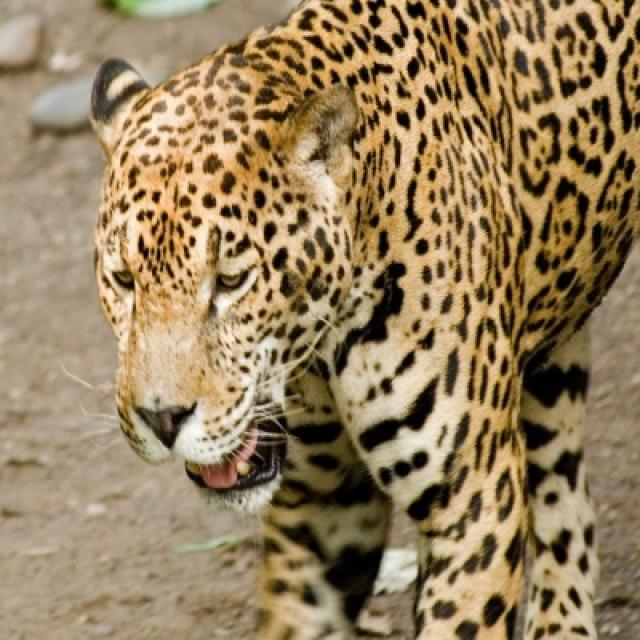Jaguar: (86, 0, 638, 638)
